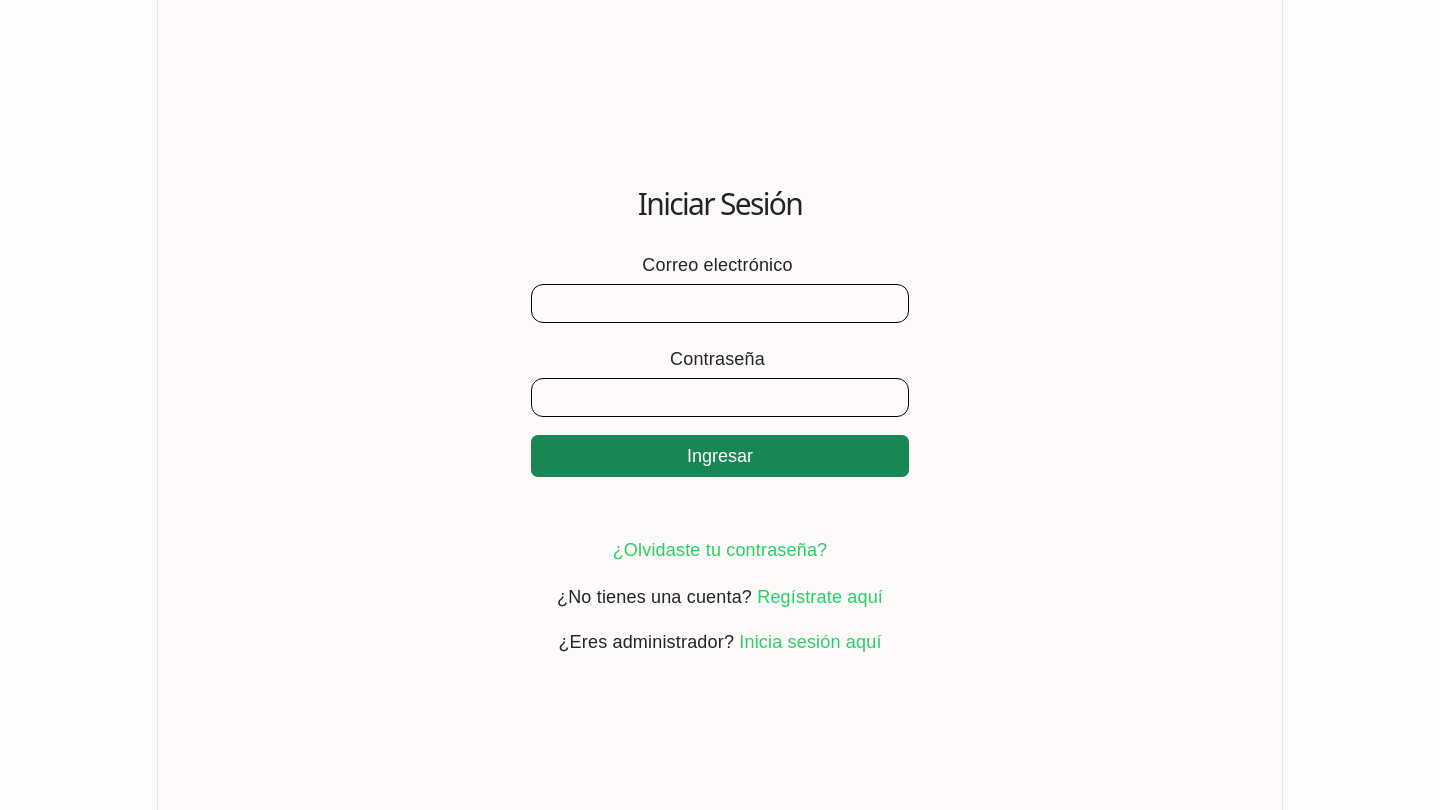
Pruebas Unitarias - Módulo Login (Nutrivida) › 3. Muestra un error si la contraseña tiene menos de 4 caracteres
Type "pame@outlook.com" into the field labelled "Correo electrónico" at (720,303), box [531,284,909,323]
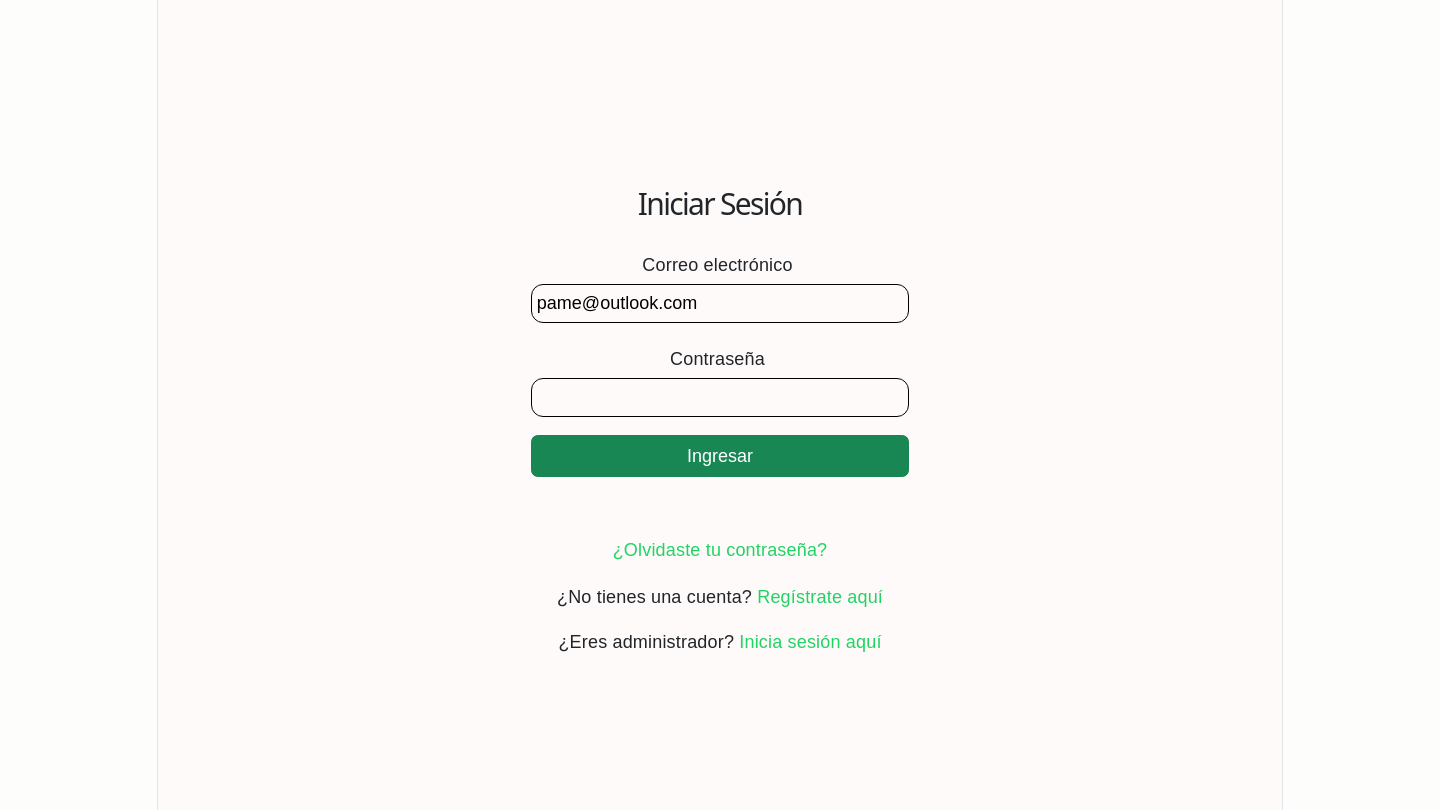
Type "123" into the password field labelled "Contraseña" at (720,397), box [531,378,909,417]
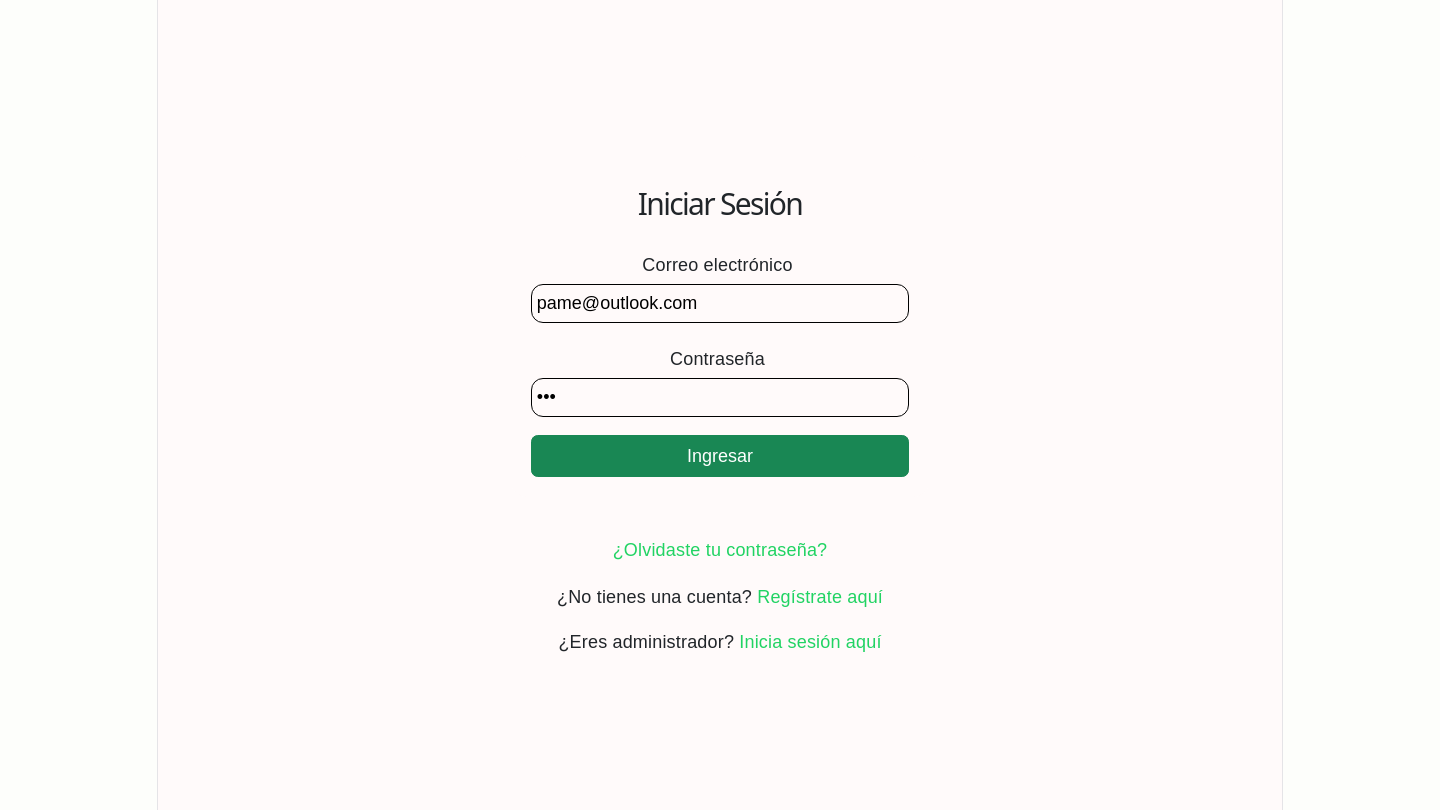
Submit the form "Iniciar Sesión Correo electrónico Contraseña Ingresar", box [511,156,929,497]
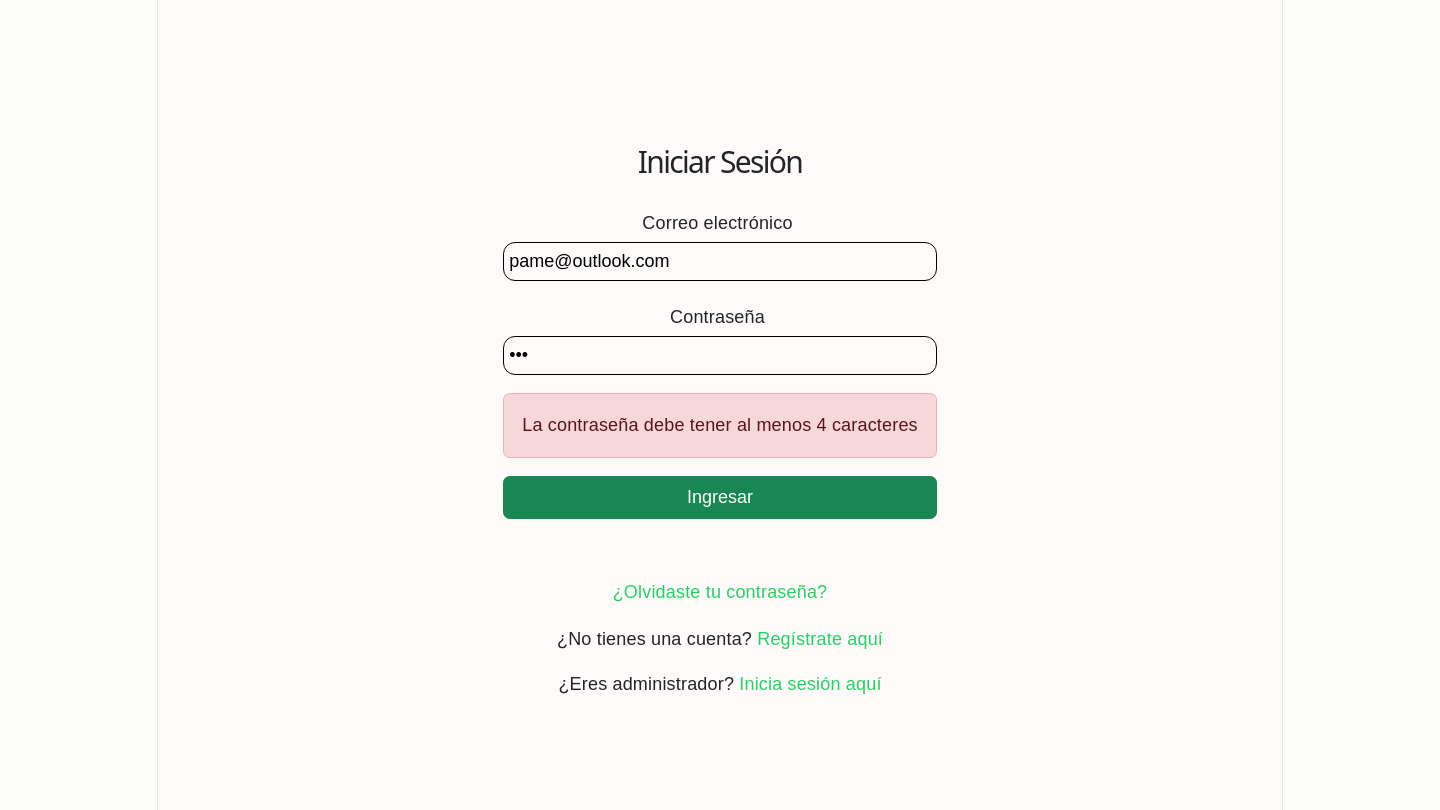
Expected: the text "La contraseña debe tener al menos 4 caracteres" is shown, [503,393,937,458]
